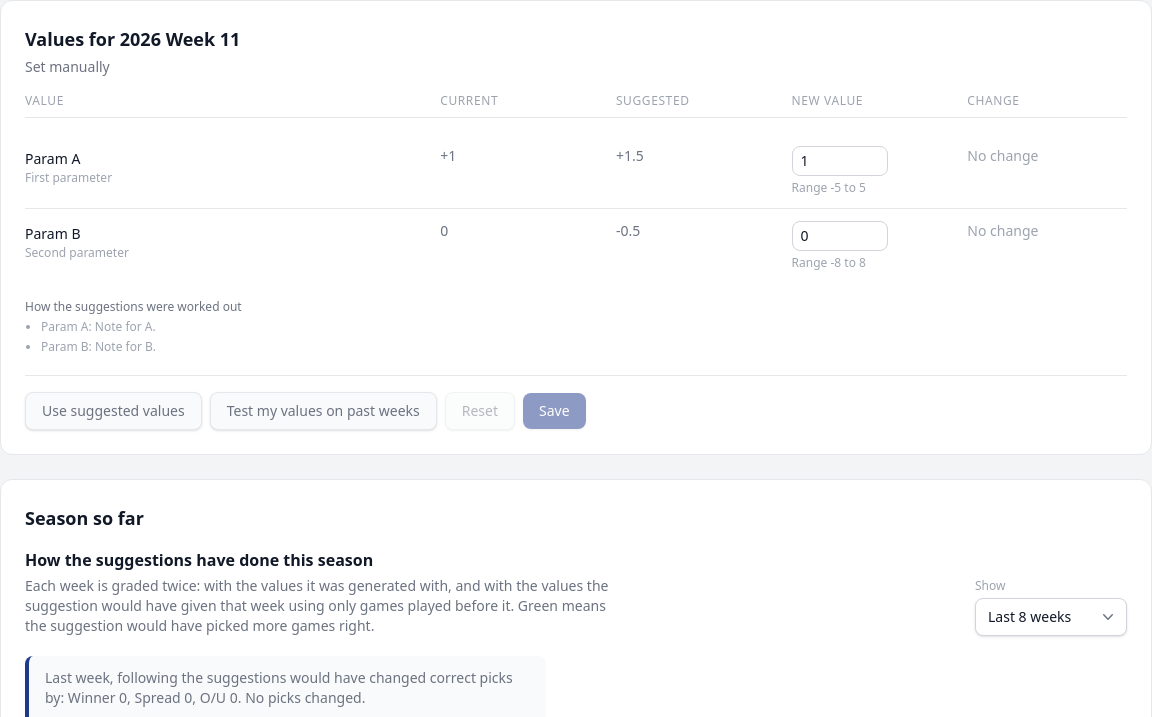
Test: PredictionCalibrationSection › resets edits back to the saved values
Replace the text in the number field labelled "Param A" with "3": (840, 161) x1=792 y1=146 x2=888 y2=176
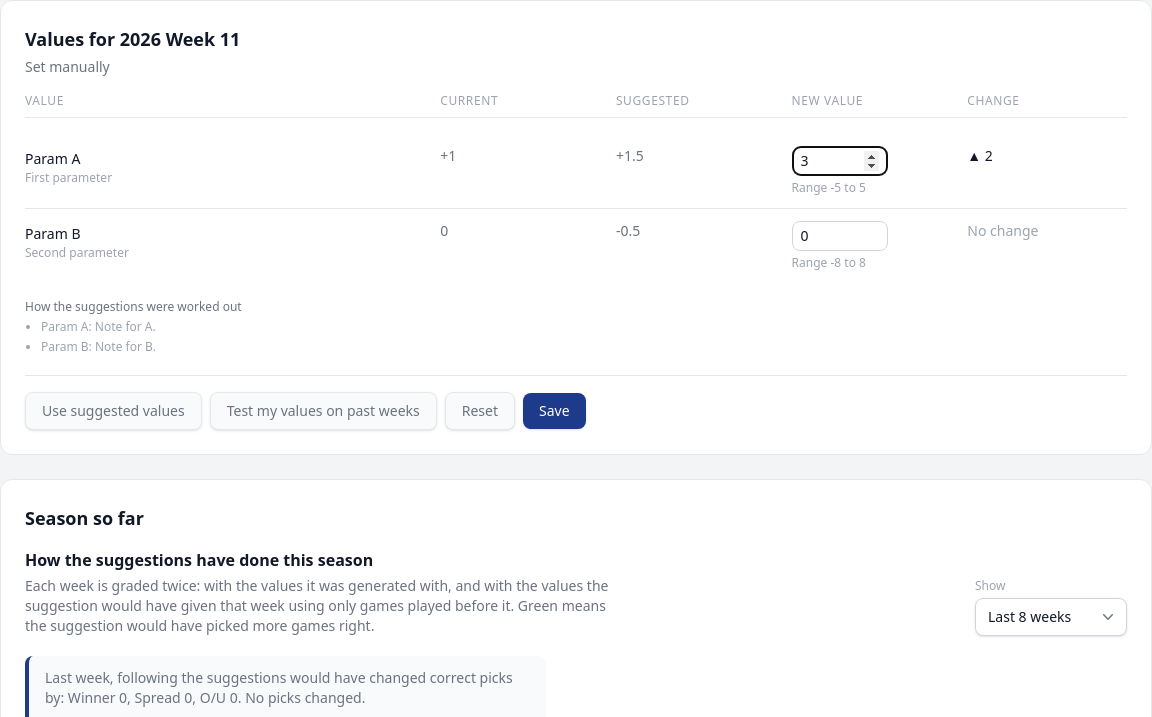
Click the button "Reset": (480, 411) x1=445 y1=392 x2=515 y2=430
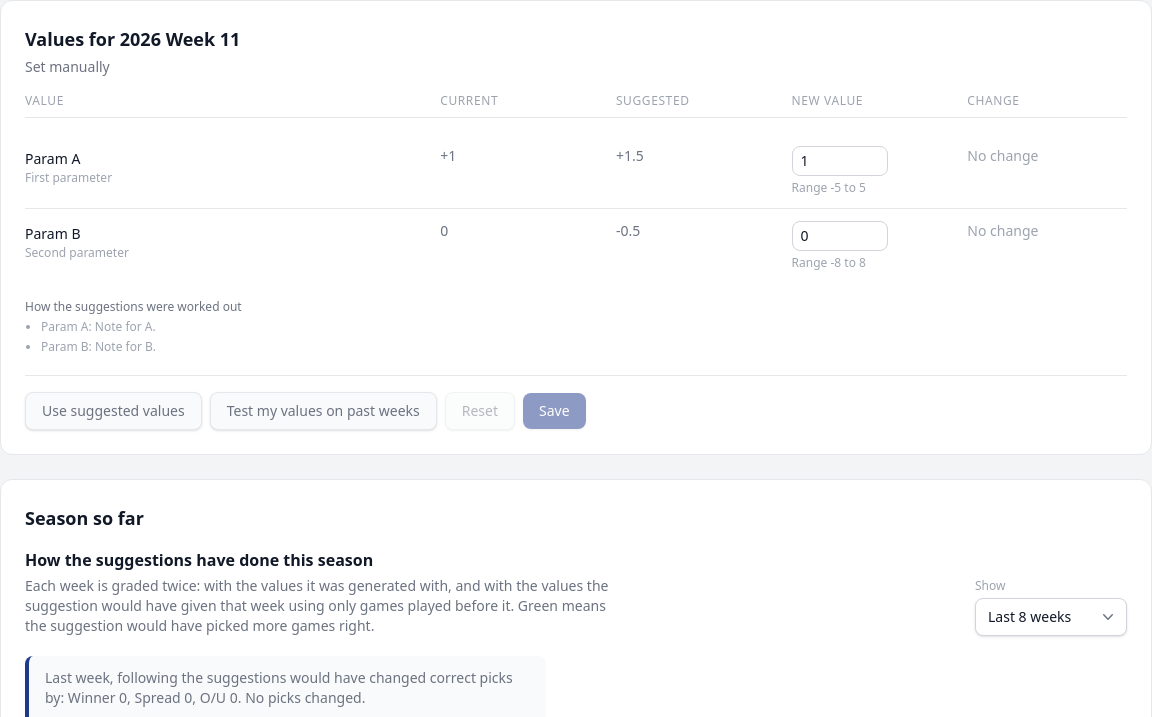
Expected: the number field labelled "Param A" holds "1", x1=792 y1=146 x2=888 y2=176
